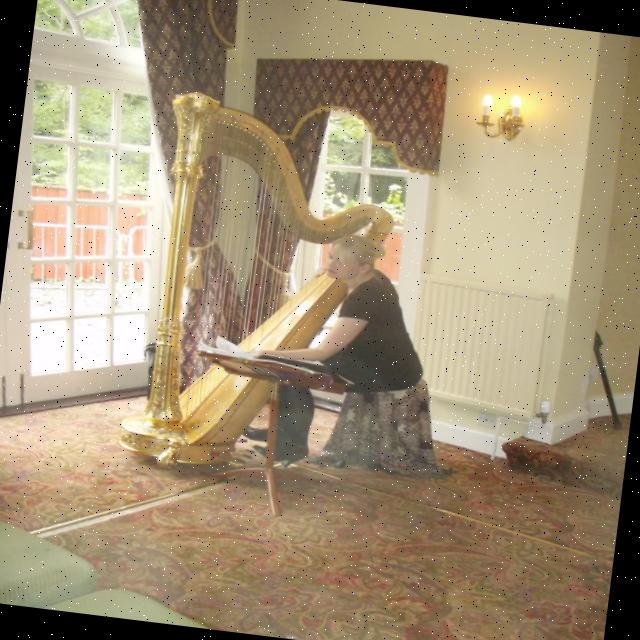harp: (119, 86, 411, 487)
